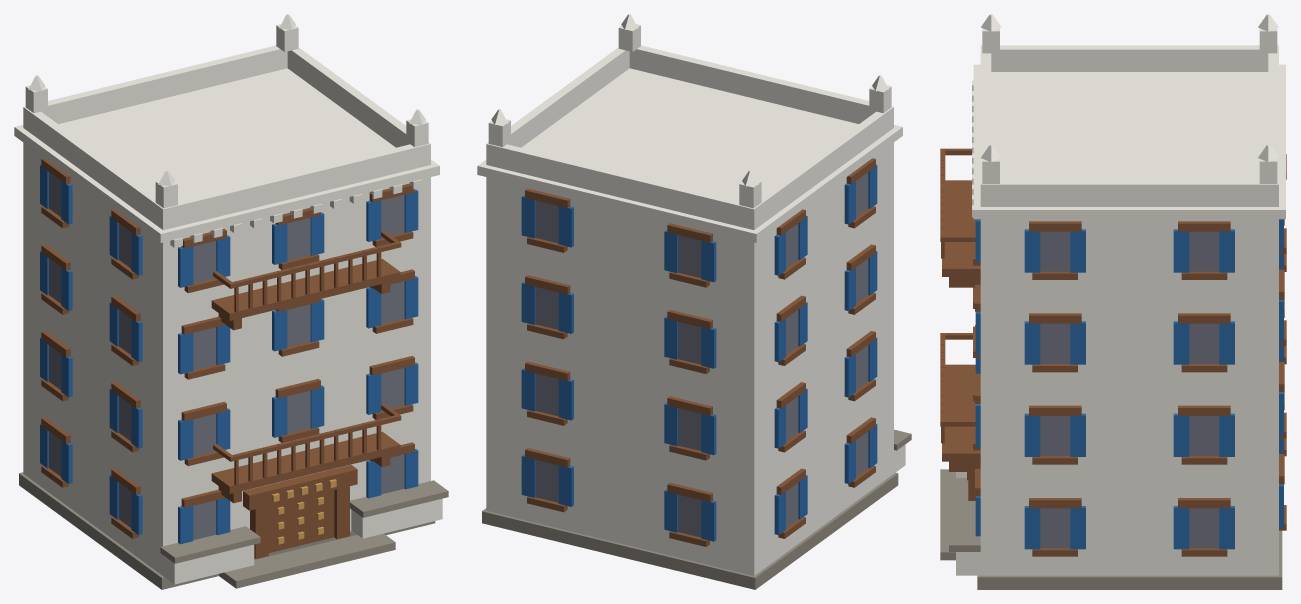
File: house-1x1-4f-swahili-a.glb
3 views of the same model, side by side, from view 1: azimuth 30°, elevation 25°; view 2: azimuth 150°, elevation 25°; view 3: azimuth 270°, elevation 25° (orthographic). The views are drawn at different scales.
Parts seen in each view (by area): view 1: house-1x1-4f-swahili-a; view 2: house-1x1-4f-swahili-a; view 3: house-1x1-4f-swahili-a.
Boxes of the visible parts, bbox=[...] form: house-1x1-4f-swahili-a: bbox=[14, 14, 448, 589]; house-1x1-4f-swahili-a: bbox=[477, 14, 911, 589]; house-1x1-4f-swahili-a: bbox=[940, 14, 1286, 589].
Bounding box in the file's own units: 0.984 × 1.38 × 0.987.
Materials: 1 (1 with a texture image).
